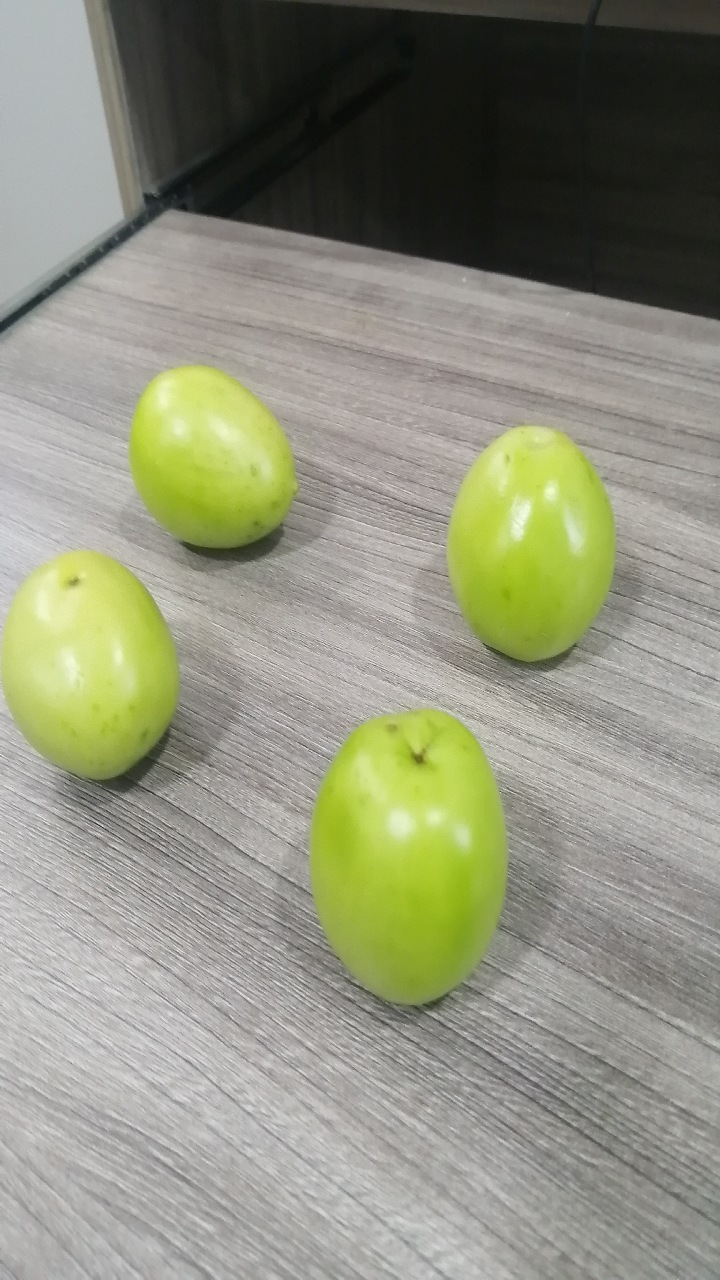tomateVerde: (289, 686, 534, 1012), (412, 394, 637, 680), (1, 532, 192, 802), (104, 352, 315, 579)
